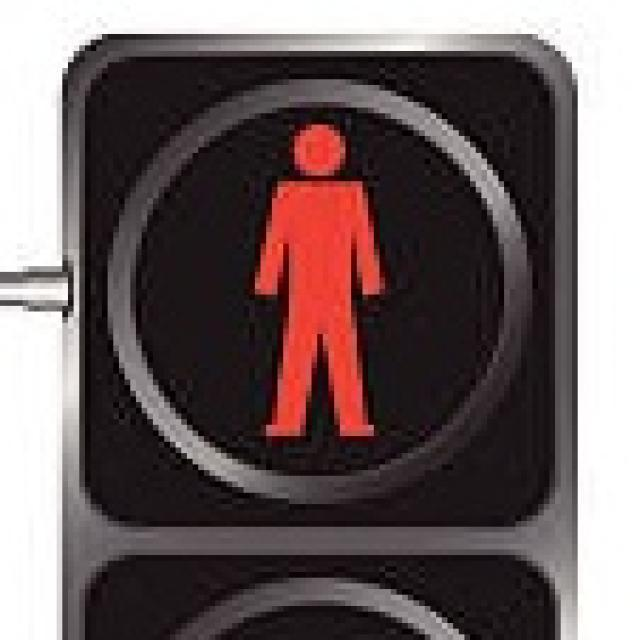red-crossing: (210, 96, 420, 453)
